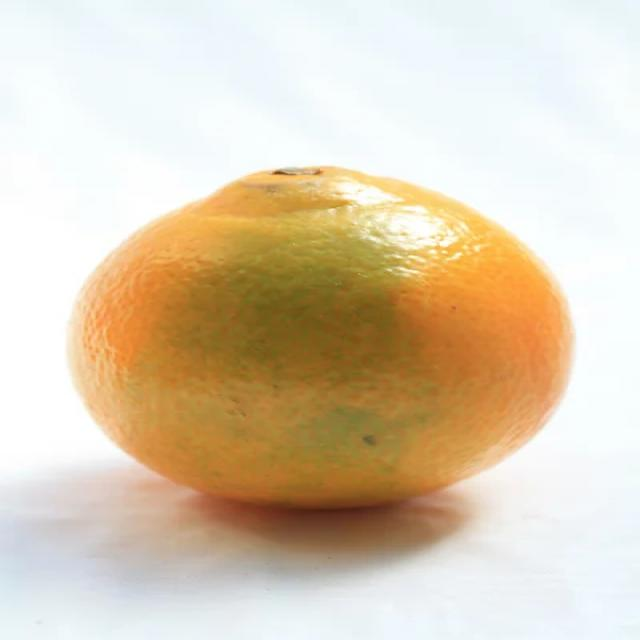Orange: (63, 167, 582, 511)
